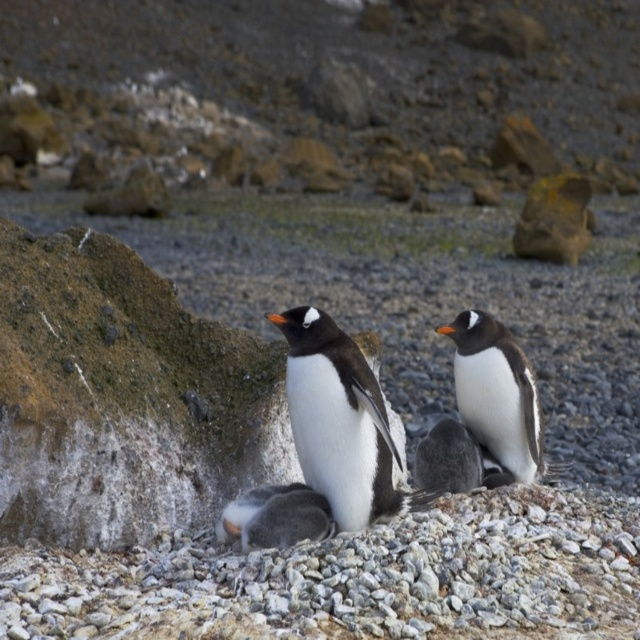Penguin: (213, 301, 550, 558)
